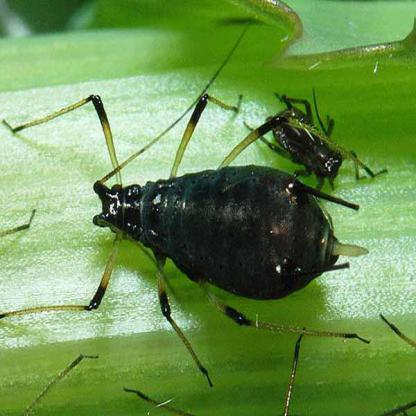uroleucon compositae: (89, 92, 371, 317)
